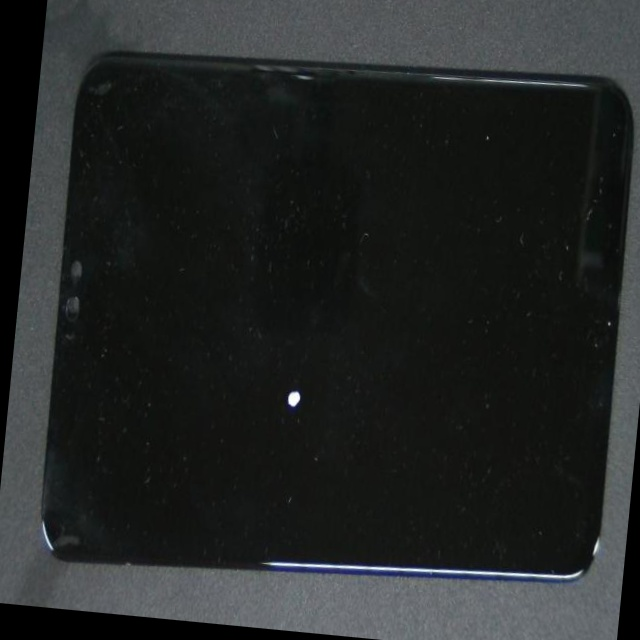stain: (134, 121, 442, 618)
